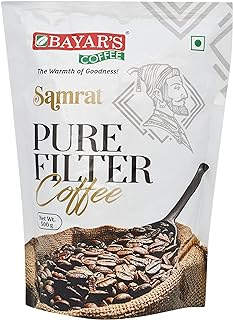Coffee: (1, 1, 226, 320)
